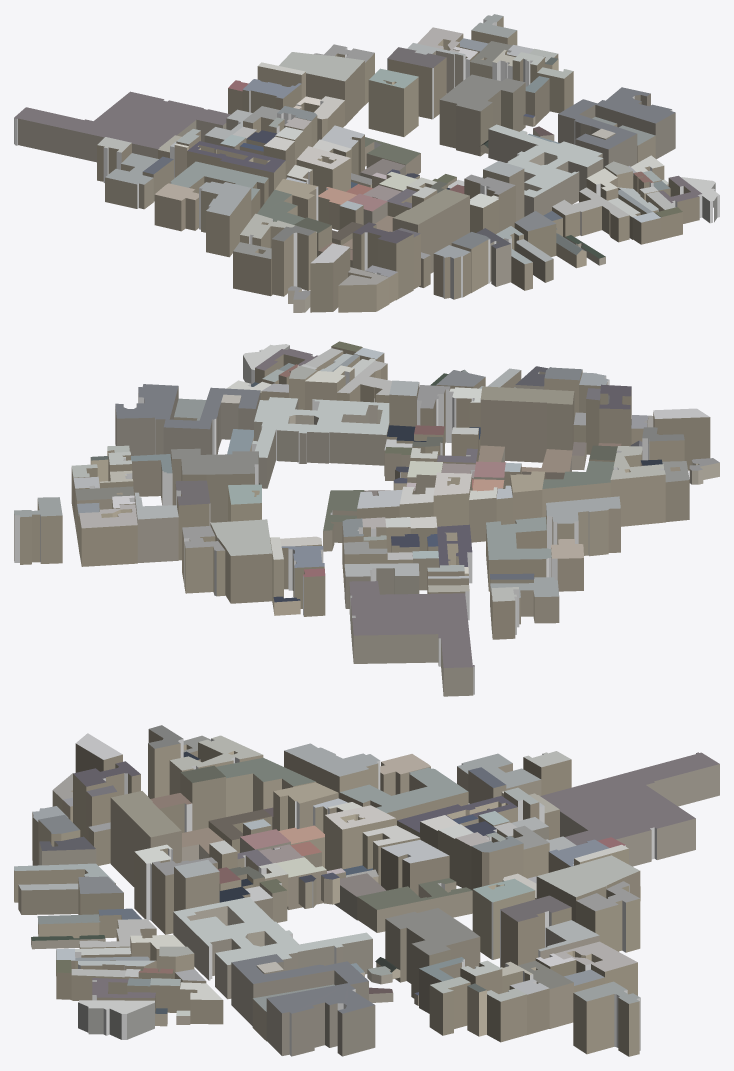
The picture shows the model from 3 angles, top to bottom: view 1: azimuth 30°, elevation 25°; view 2: azimuth 150°, elevation 25°; view 3: azimuth 270°, elevation 25°; orthographic projection. The views are drawn at different scales.
Parts seen in each view (by area): view 1: tuile; view 2: tuile; view 3: tuile.
Part boxes in pixels (bbox=[...]): tuile: bbox=[14, 14, 719, 312]; tuile: bbox=[14, 341, 719, 696]; tuile: bbox=[14, 725, 719, 1056].
Bounding box in the file's own units: 284 × 40.32 × 302.
